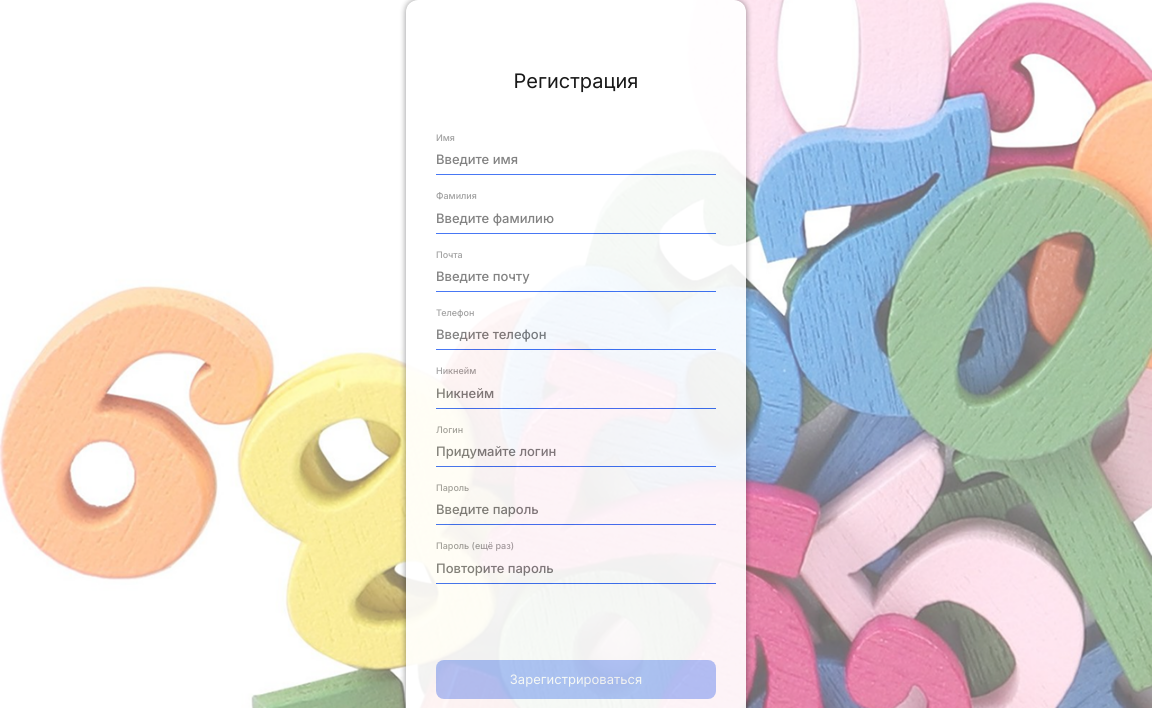
Test: SignUpPage › shows error validate for second_name
This screenshot has width=1152, height=708.
Type "петров" into the field labelled "Фамилия" at (576, 218), box [436,202,716,234]
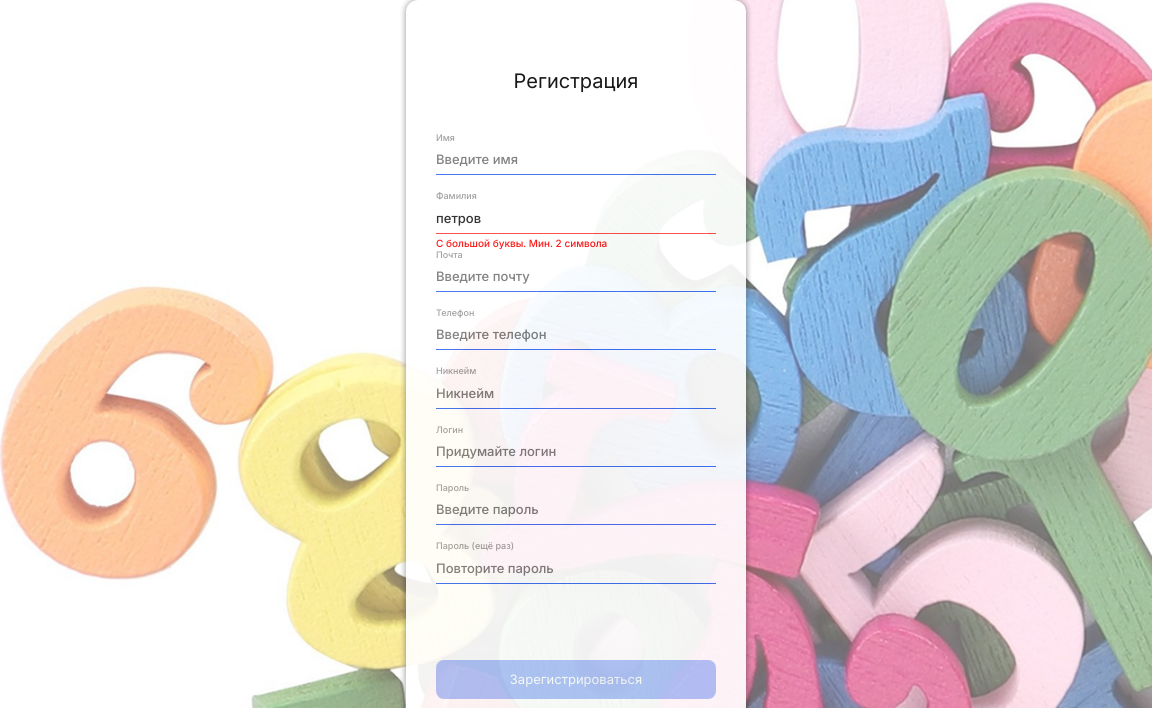
Now the text "С большой буквы. Мин. 2 символа" is shown, box [436,238,607,250]
